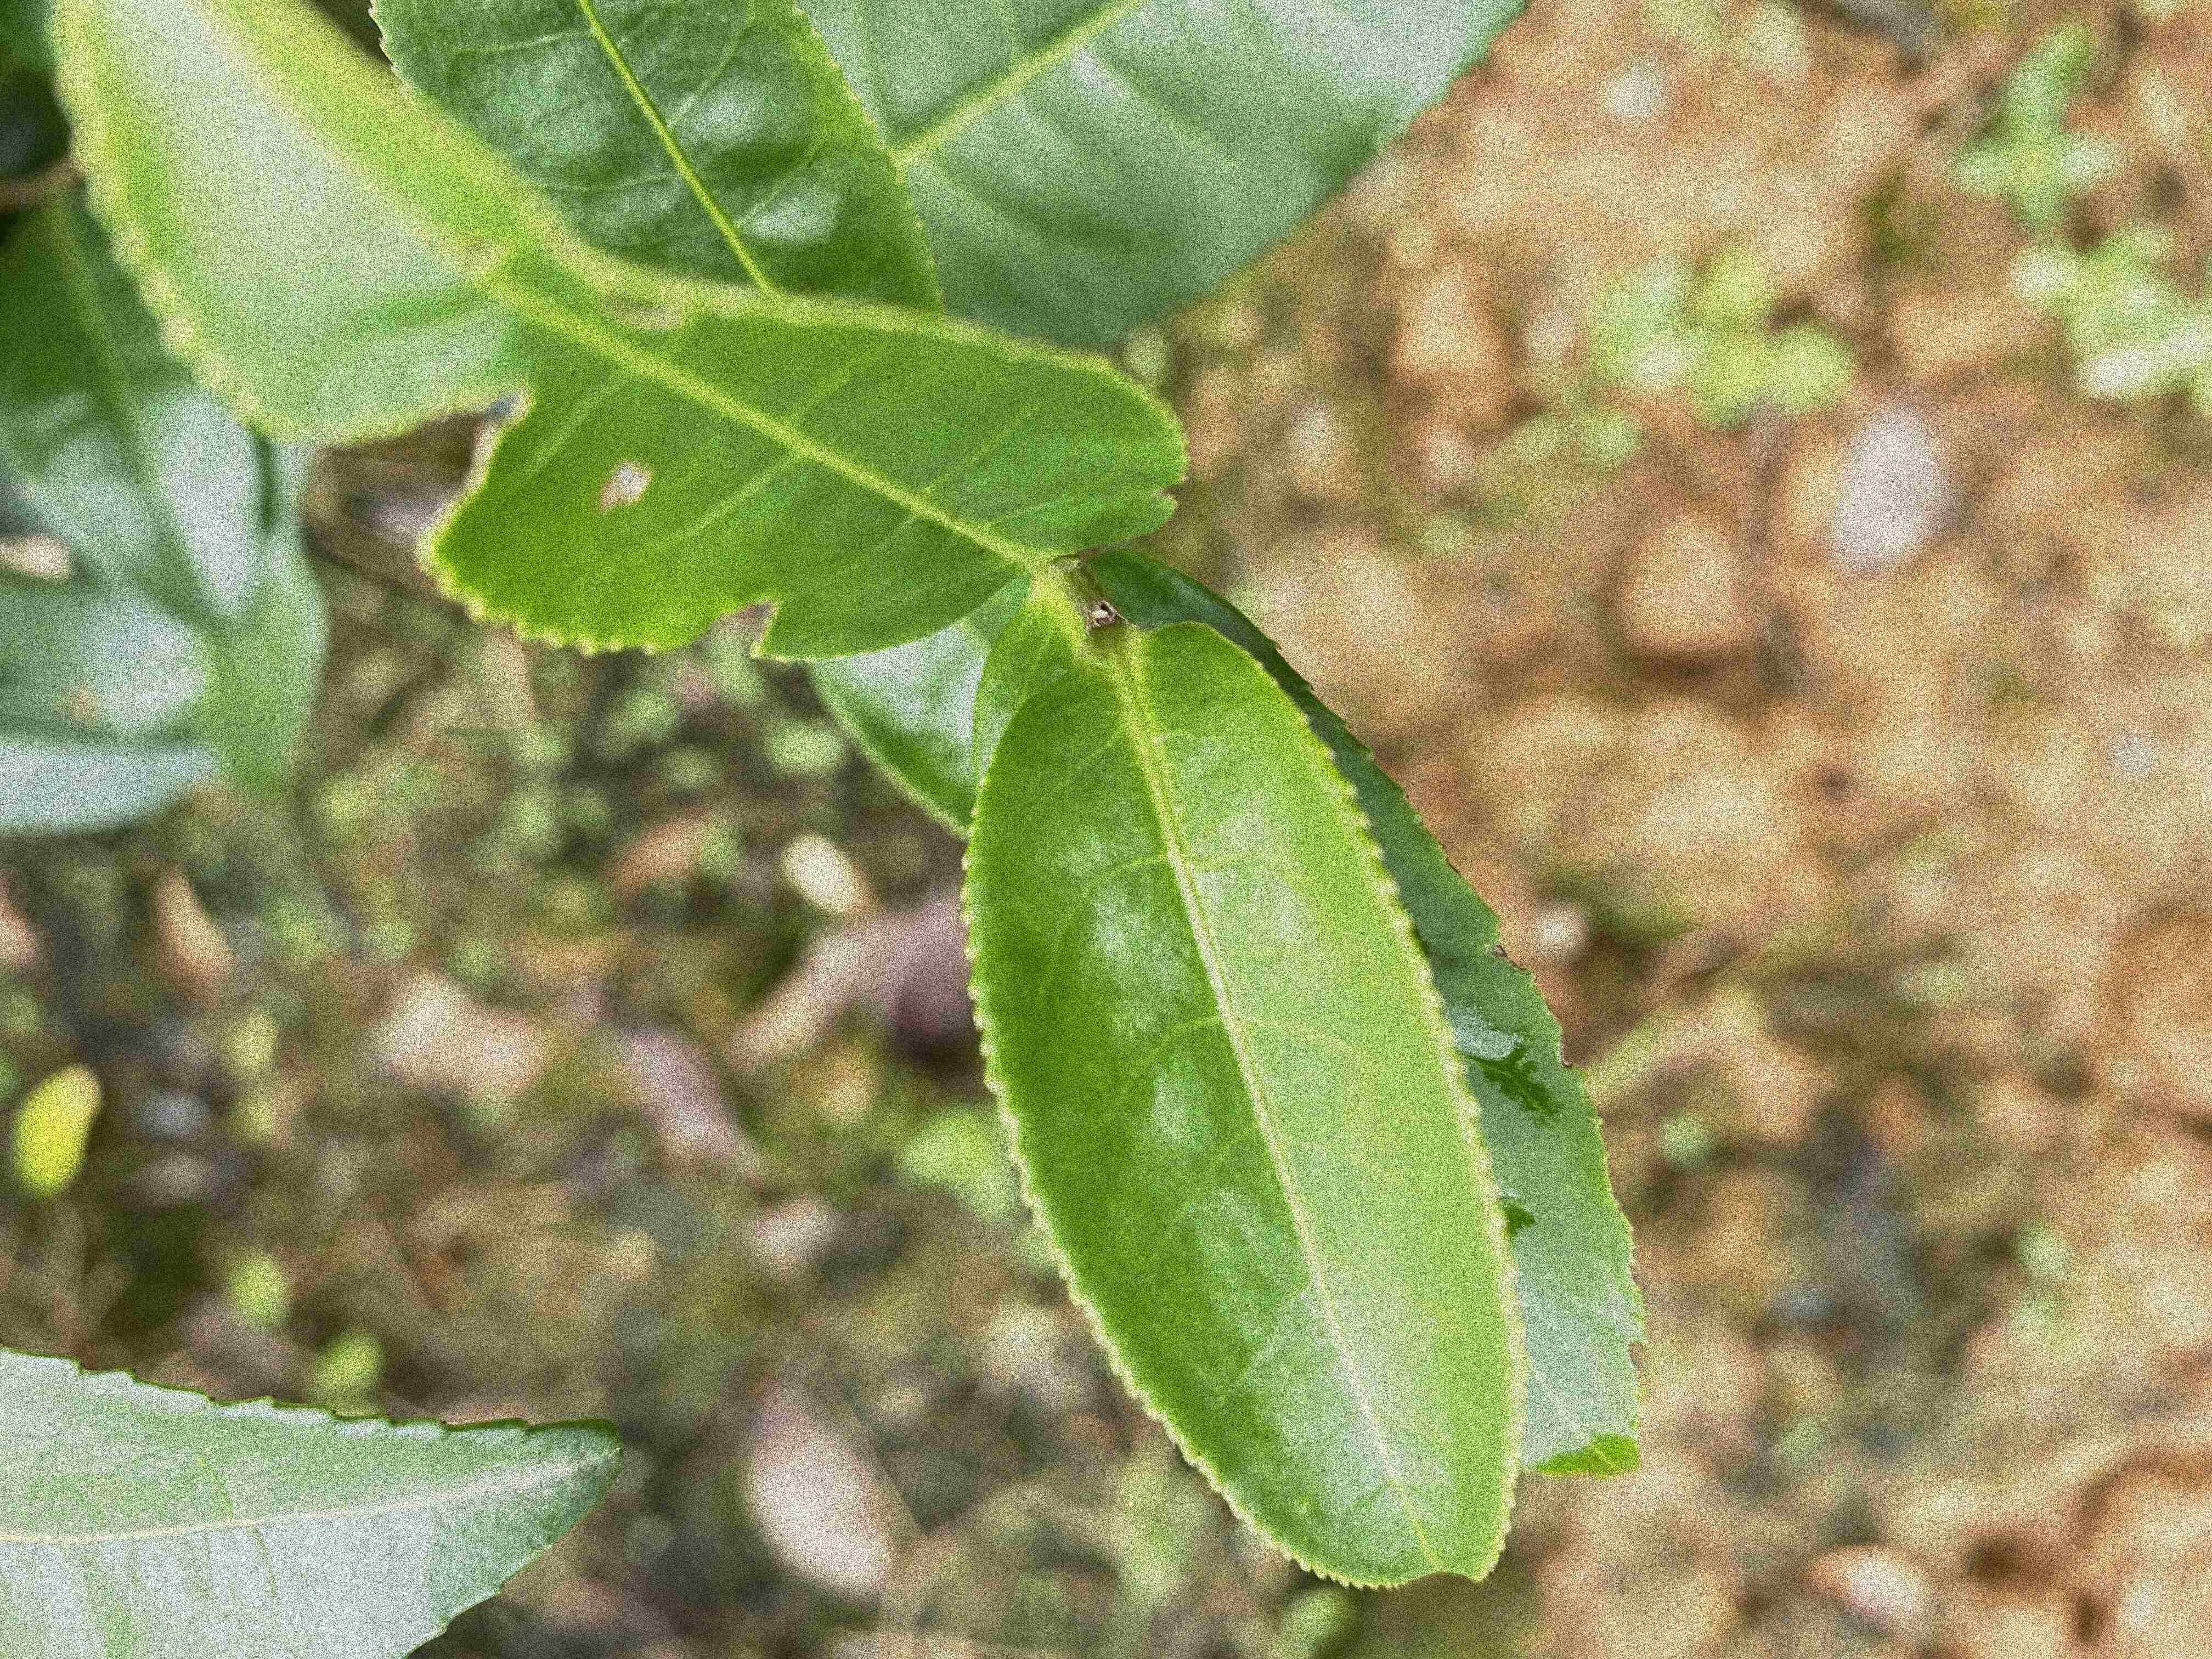chihuo_high: (44, 3, 1195, 662)
healthy: (961, 615, 1531, 1593), (3, 1335, 627, 1656)
